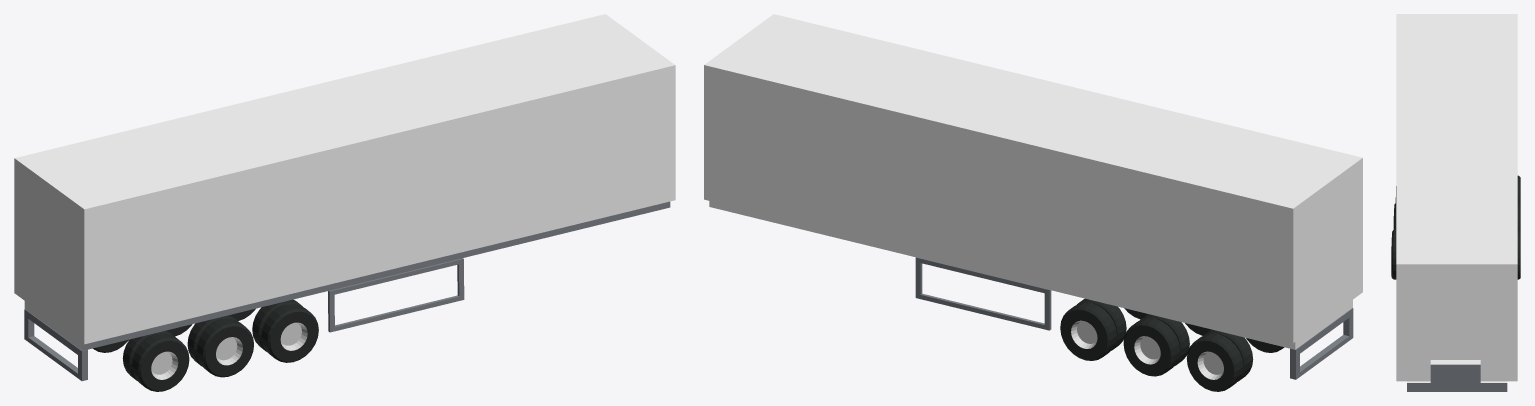
Rendered from sk_hyblue_container_web.fbx.
3 renders of one model, left to right at view 1: azimuth 30°, elevation 25°; view 2: azimuth 150°, elevation 25°; view 3: azimuth 270°, elevation 25°, orthographic. The views are drawn at different scales.
Visible parts, largest first — view 1: sk_saic_hyblue_container_web; view 2: sk_saic_hyblue_container_web; view 3: sk_saic_hyblue_container_web.
Part boxes in pixels (x1=…): sk_saic_hyblue_container_web: x1=14, y1=14, x2=675, y2=391; sk_saic_hyblue_container_web: x1=704, y1=14, x2=1362, y2=391; sk_saic_hyblue_container_web: x1=1391, y1=14, x2=1520, y2=391.
Bounding box in the file's own units: 12.42 × 4.04 × 2.67.
1 material, 1 textured.
